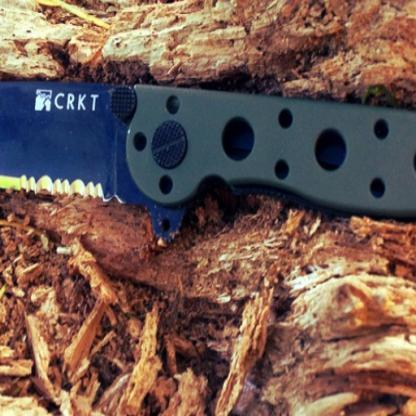knife: (0, 65, 415, 264)
